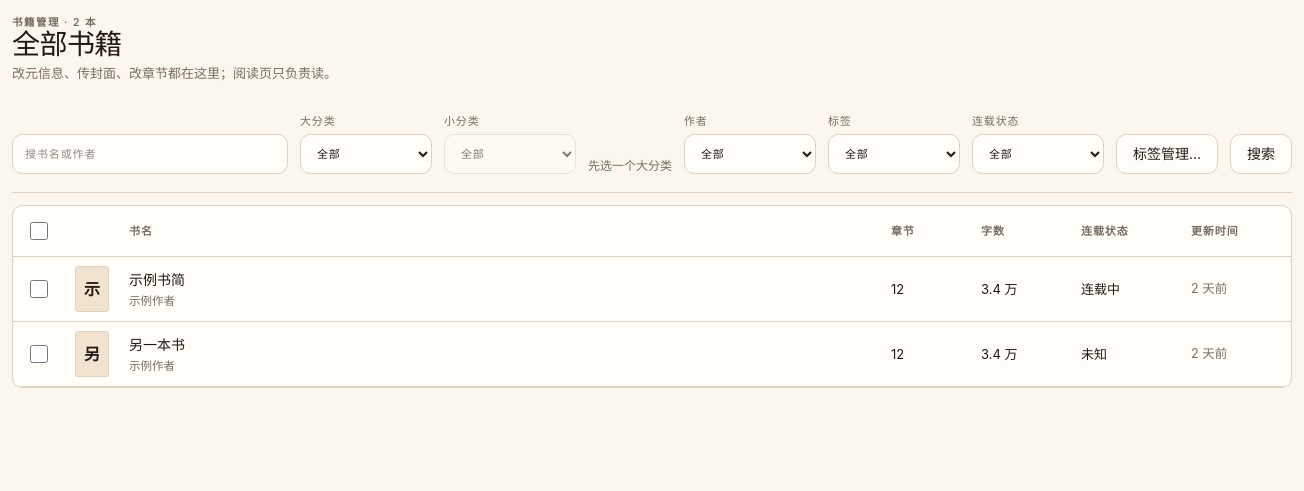
it: 书籍管理列表 › 勾选一本书后出现批量条
The image size is (1304, 491).
Click the checkbox with test id "admin-book-pick-7" at (39,290), box [30, 280, 48, 298]
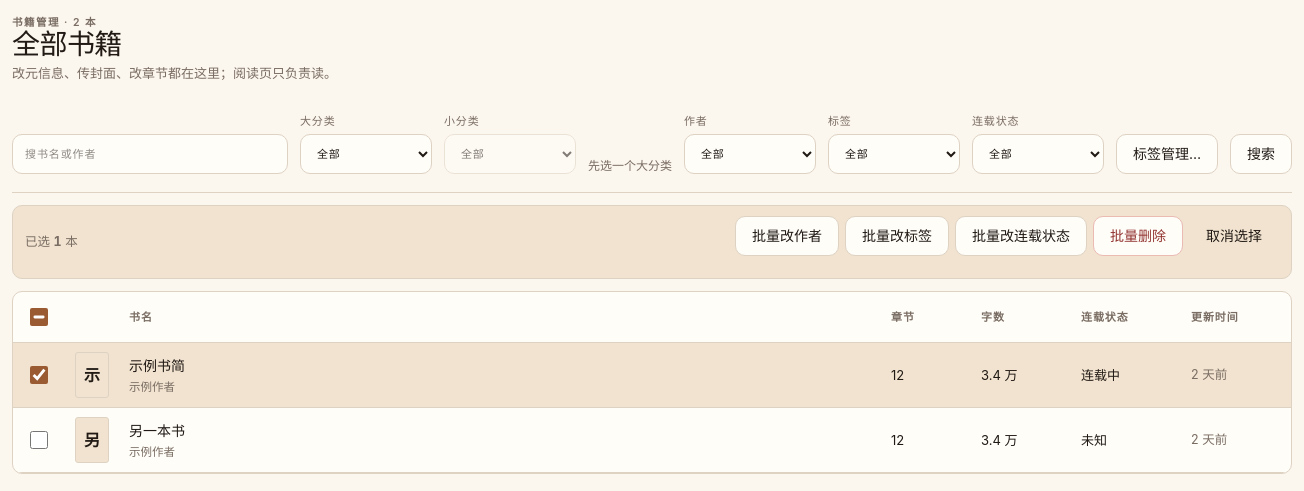
Expected: the element with test id "admin-batch-bar" shows "已选", [25, 234, 54, 249]
Click the button with test id "admin-batch-clear" at (1234,236), box [1189, 216, 1279, 256]
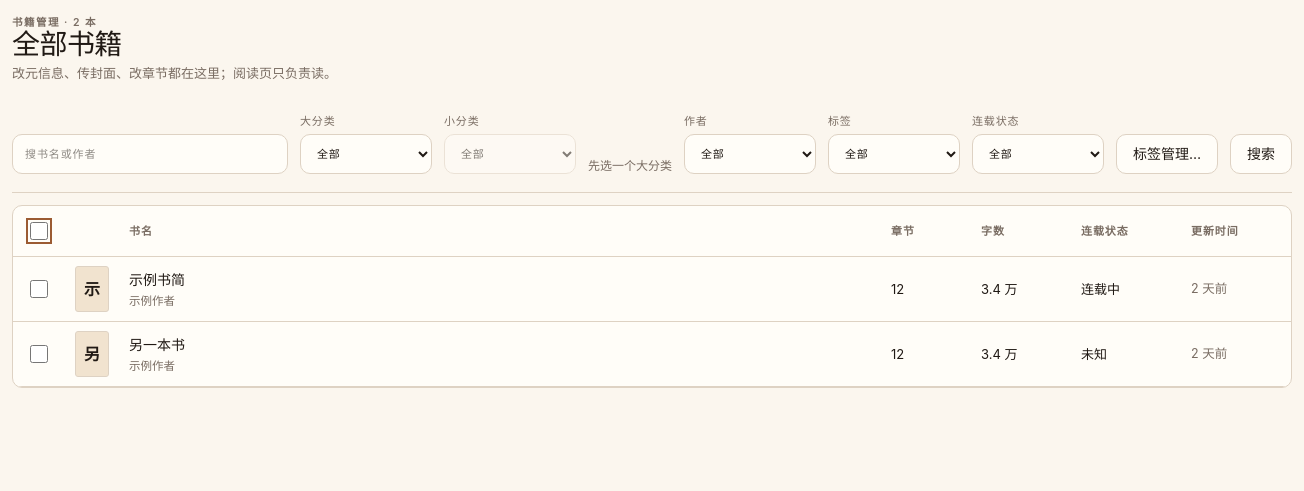
Expected: the element with test id "admin-batch-bar" is gone
